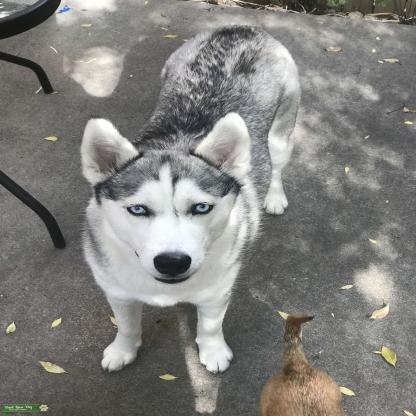dog: (62, 25, 297, 375)
